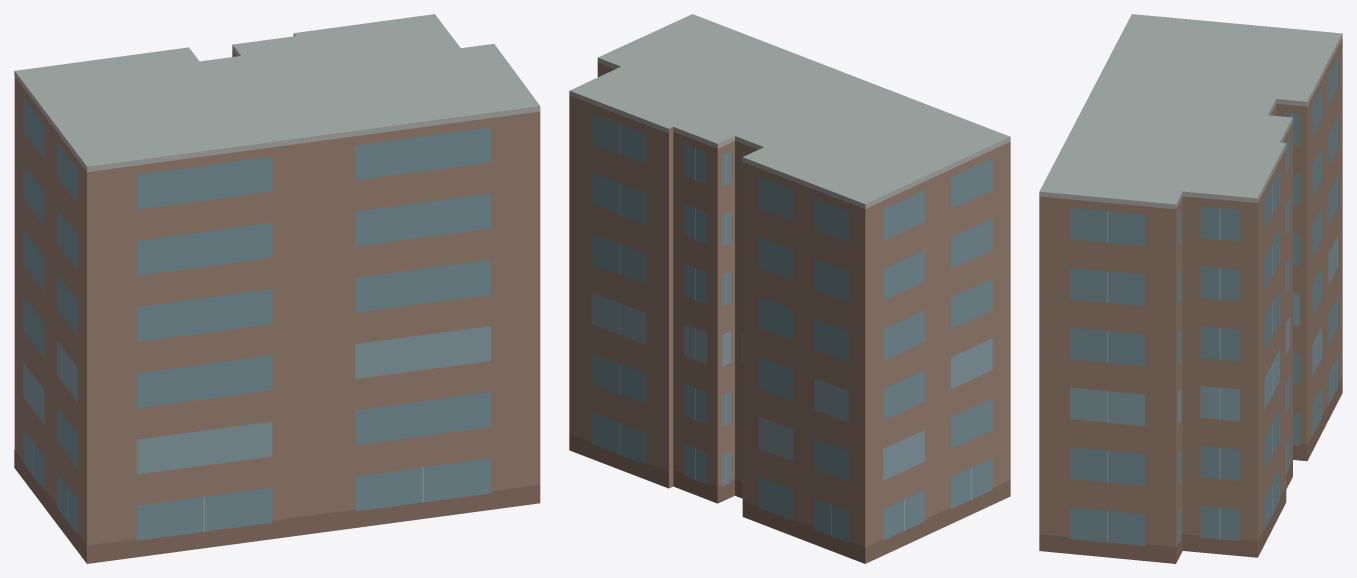
File: survey-upis-32977635.glb
The picture shows the model from 3 angles, left to right: view 1: azimuth 30°, elevation 25°; view 2: azimuth 150°, elevation 25°; view 3: azimuth 270°, elevation 25°; orthographic projection. The views are drawn at different scales.
Visible parts, largest first — view 1: survey-upis-32977635.tmp; view 2: survey-upis-32977635.tmp; view 3: survey-upis-32977635.tmp.
Part boxes in pixels (x1=…): survey-upis-32977635.tmp: x1=14, y1=14, x2=540, y2=563; survey-upis-32977635.tmp: x1=569, y1=14, x2=1010, y2=563; survey-upis-32977635.tmp: x1=1039, y1=14, x2=1342, y2=563.
Size of the model in its own units: 20.65 by 18.15 by 13.89.
